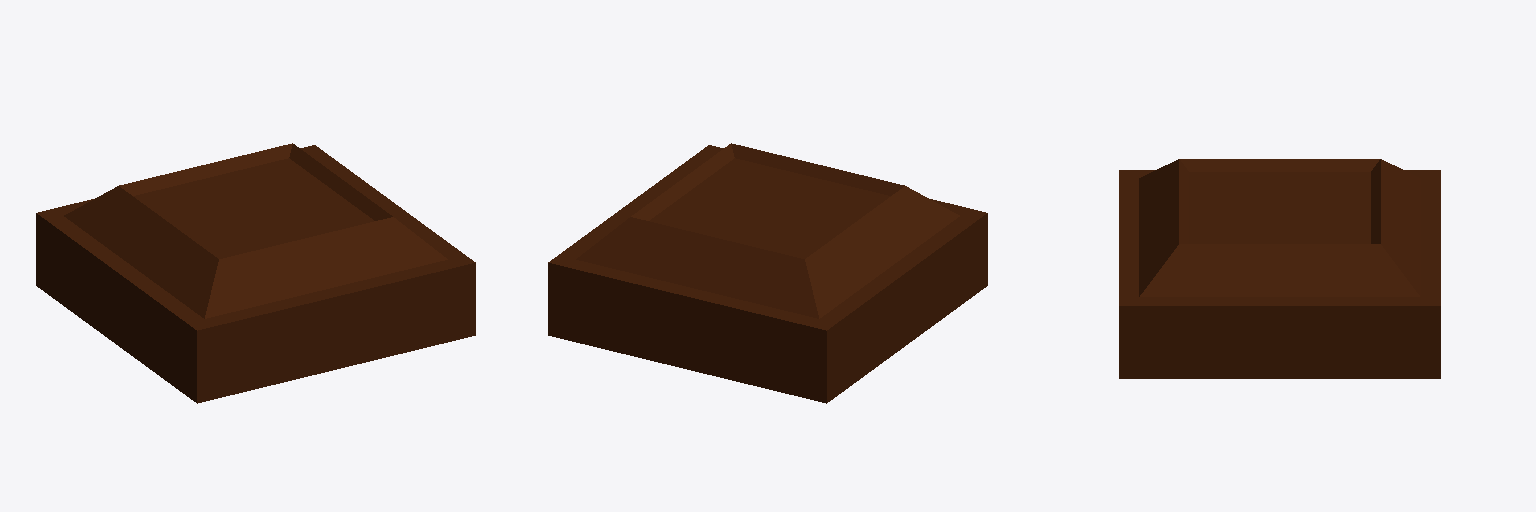
File: PeanutButterChocolate.obj
3 views of the same model, side by side, from view 1: azimuth 30°, elevation 25°; view 2: azimuth 150°, elevation 25°; view 3: azimuth 270°, elevation 25° (orthographic).
Visible parts, largest first — view 1: Union1; view 2: Union1; view 3: Union1.
Boxes of the visible parts, <box> form: Union1: <box>36,143,475,403</box>; Union1: <box>548,143,987,403</box>; Union1: <box>1119,159,1440,378</box>.
Size of the model in its own units: 4 by 1.5 by 4.